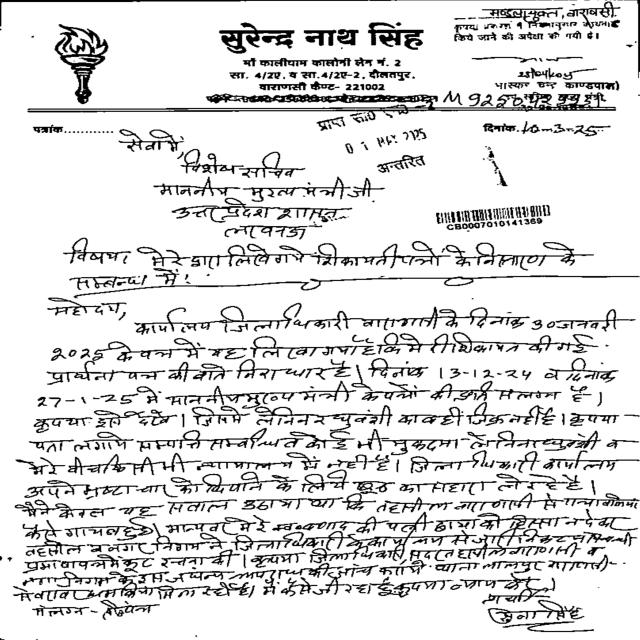antritgovtstamp: (314, 94, 446, 176)
barcode: (428, 204, 566, 232)
